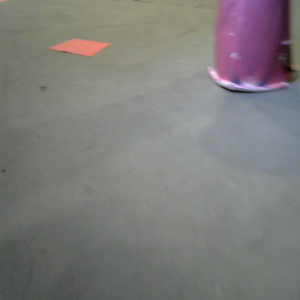right: (204, 1, 300, 100)
